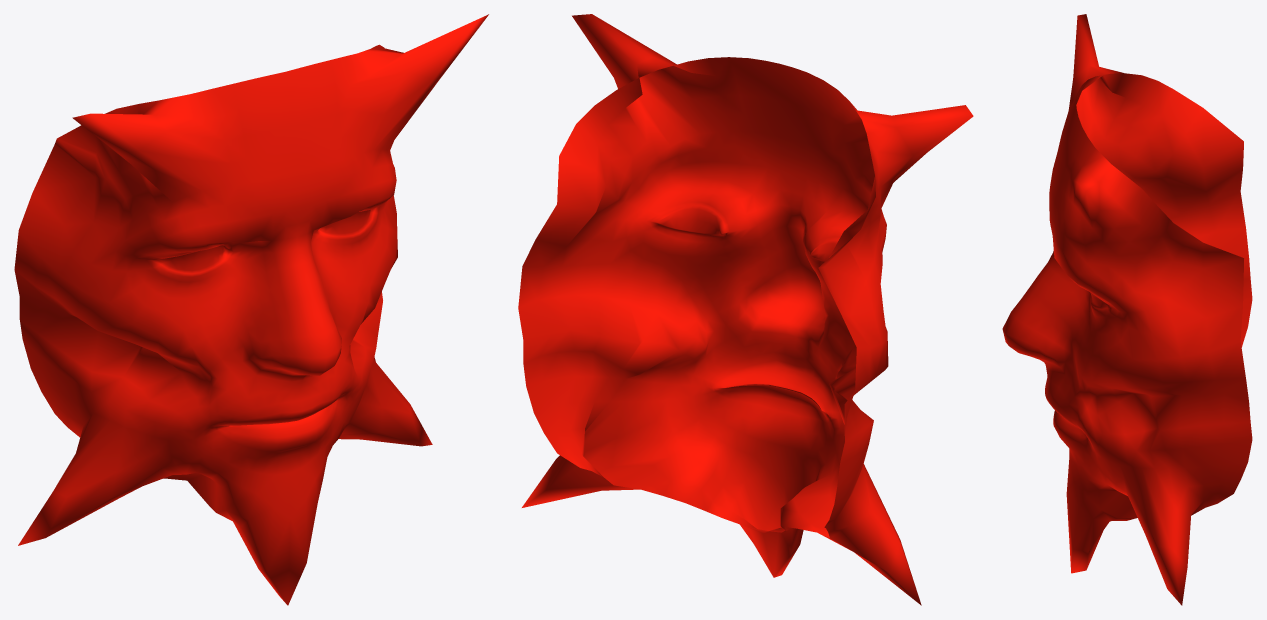
3 renders of one model, left to right at view 1: azimuth 30°, elevation 25°; view 2: azimuth 150°, elevation 25°; view 3: azimuth 270°, elevation 25°, orthographic. The views are drawn at different scales.
Visible parts, largest first — view 1: faceMesh; view 2: faceMesh; view 3: faceMesh.
Boxes of the visible parts, x1,y1,x2,y2 form: faceMesh: (14, 14, 488, 605); faceMesh: (518, 14, 973, 605); faceMesh: (1002, 14, 1252, 605).
Bounding box in the file's own units: 17.66 × 21.71 × 10.37.
